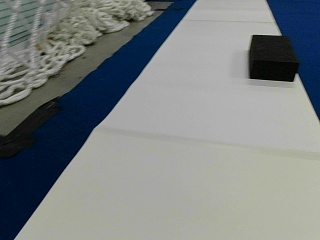block: (248, 34, 297, 81)
